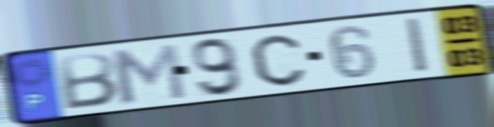6: (326, 23, 379, 82)
9: (188, 36, 245, 97)
B: (56, 51, 121, 112)
C: (248, 32, 308, 88)
I: (403, 15, 433, 76)
M: (106, 41, 189, 106)
